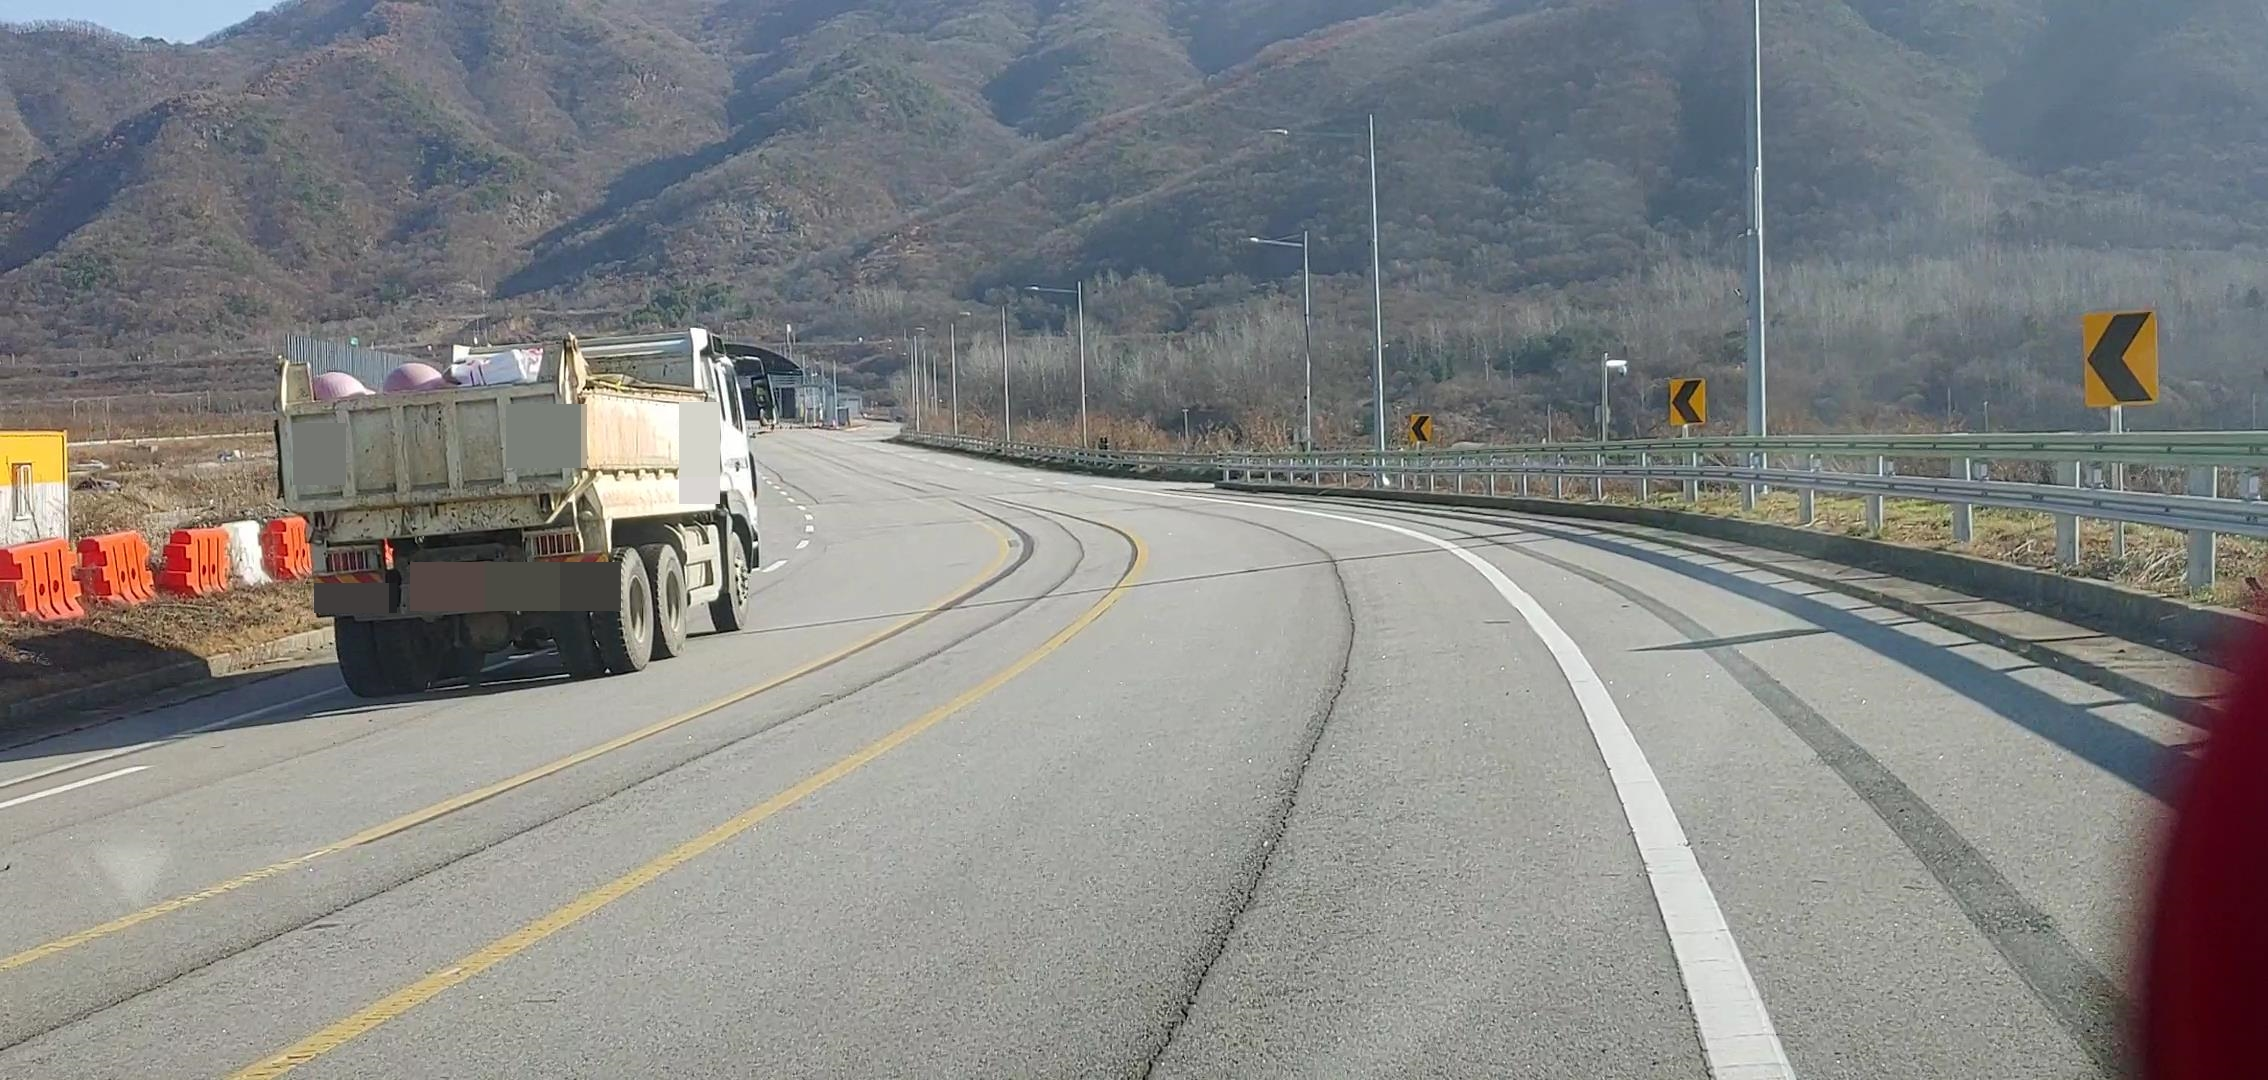불법차량: (270, 327, 780, 698)
